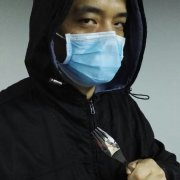face_mask: (60, 1, 130, 81)
